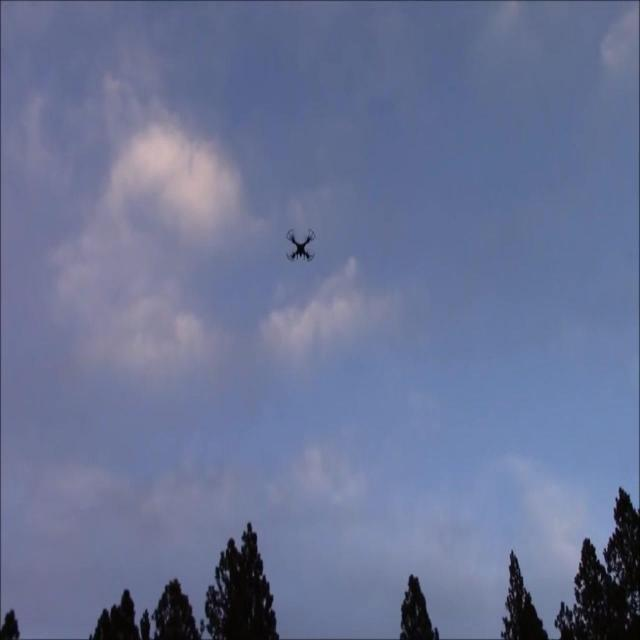UAV: (286, 228, 316, 262)
